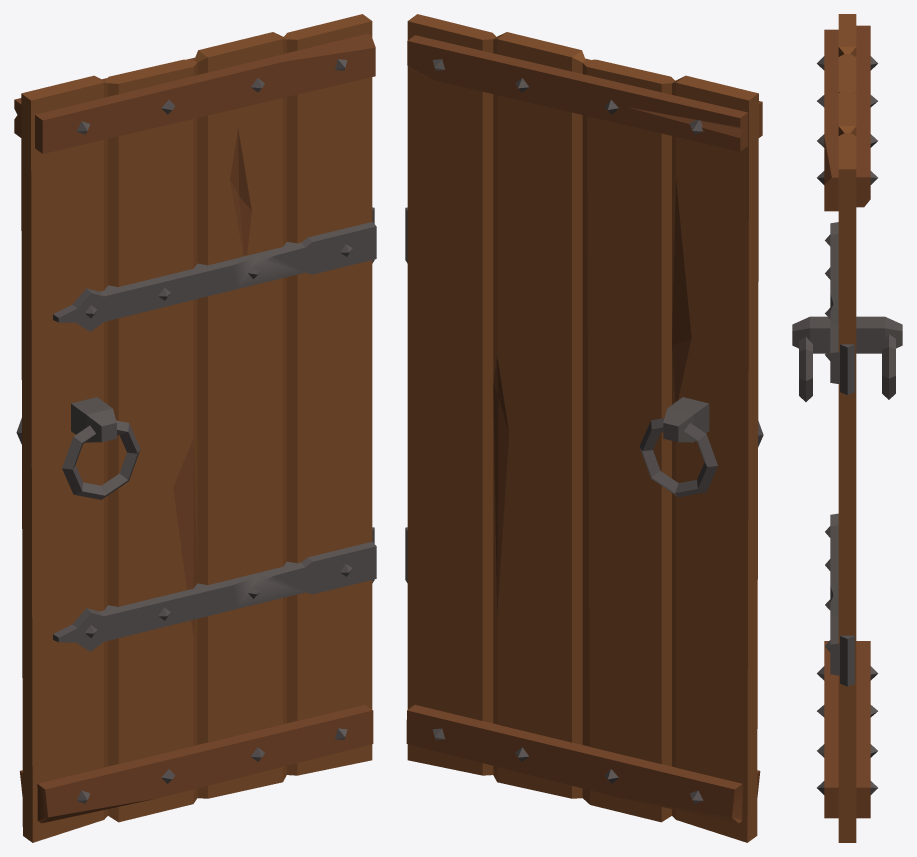
Rendered from Door.fbx.
The picture shows the model from 3 angles, left to right: view 1: azimuth 30°, elevation 25°; view 2: azimuth 150°, elevation 25°; view 3: azimuth 270°, elevation 25°; orthographic projection. The views are drawn at different scales.
Parts seen in each view (by area): view 1: door_single_c_regular_fantasy_door; view 2: door_single_c_regular_fantasy_door; view 3: door_single_c_regular_fantasy_door.
Boxes of the visible parts, bbox=[...] form: door_single_c_regular_fantasy_door: bbox=[14, 14, 376, 842]; door_single_c_regular_fantasy_door: bbox=[405, 14, 763, 842]; door_single_c_regular_fantasy_door: bbox=[792, 14, 902, 842].
Bounding box in the file's own units: 103 × 209 × 30.77.
